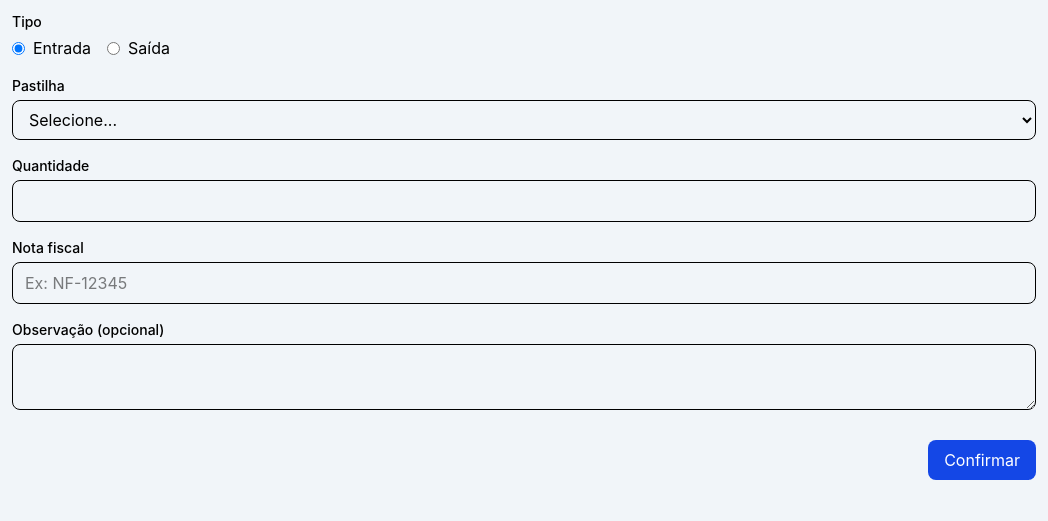
Test: MovimentacaoForm › CT73 - RN04: item com estoque zerado desabilita a opção de saída
The width and height of the screenshot is (1048, 521).
Select "PST-002 - TCMT (Estoque: 0)" in the dropdown labelled "Pastilha" at (524, 120), box x1=12 y1=100 x2=1036 y2=140
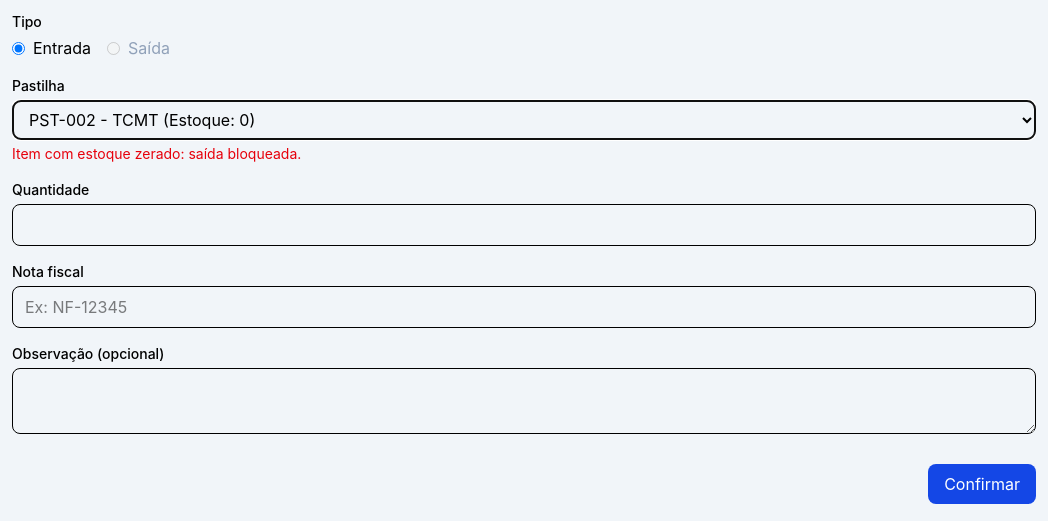
Check: the radio button labelled "Saída" is disabled, box x1=107 y1=42 x2=120 y2=54
Check: the message reads "Item com estoque zerado: saída bloqueada.", box x1=12 y1=145 x2=301 y2=162
